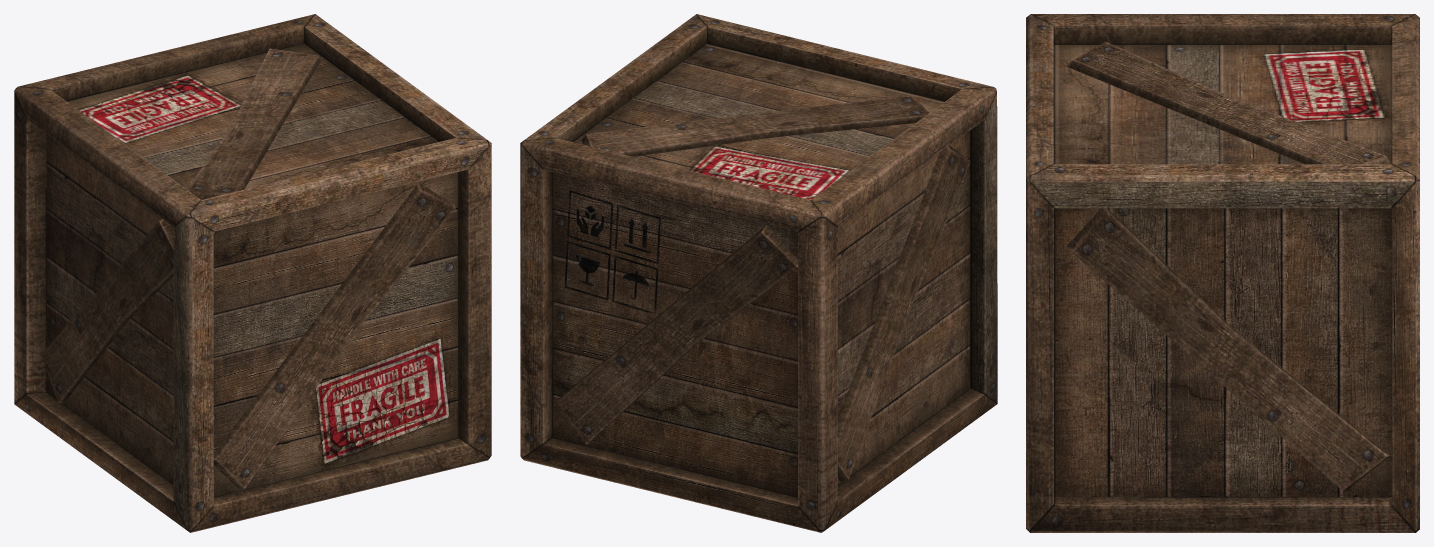
The model's file is crate-box.glb.
3 views of the same model, side by side, from view 1: azimuth 30°, elevation 25°; view 2: azimuth 150°, elevation 25°; view 3: azimuth 270°, elevation 25° (orthographic). The views are drawn at different scales.
Visible parts, largest first — view 1: crate002_Material #51_0; view 2: crate002_Material #51_0; view 3: crate002_Material #51_0.
Part boxes in pixels (x1,y1,x2,y2): crate002_Material #51_0: (14,14,491,532); crate002_Material #51_0: (520,14,997,532); crate002_Material #51_0: (1026,14,1419,532).
Bounding box in the file's own units: 60.02 × 60.16 × 60.16.
Materials: 1 (1 with a texture image).
